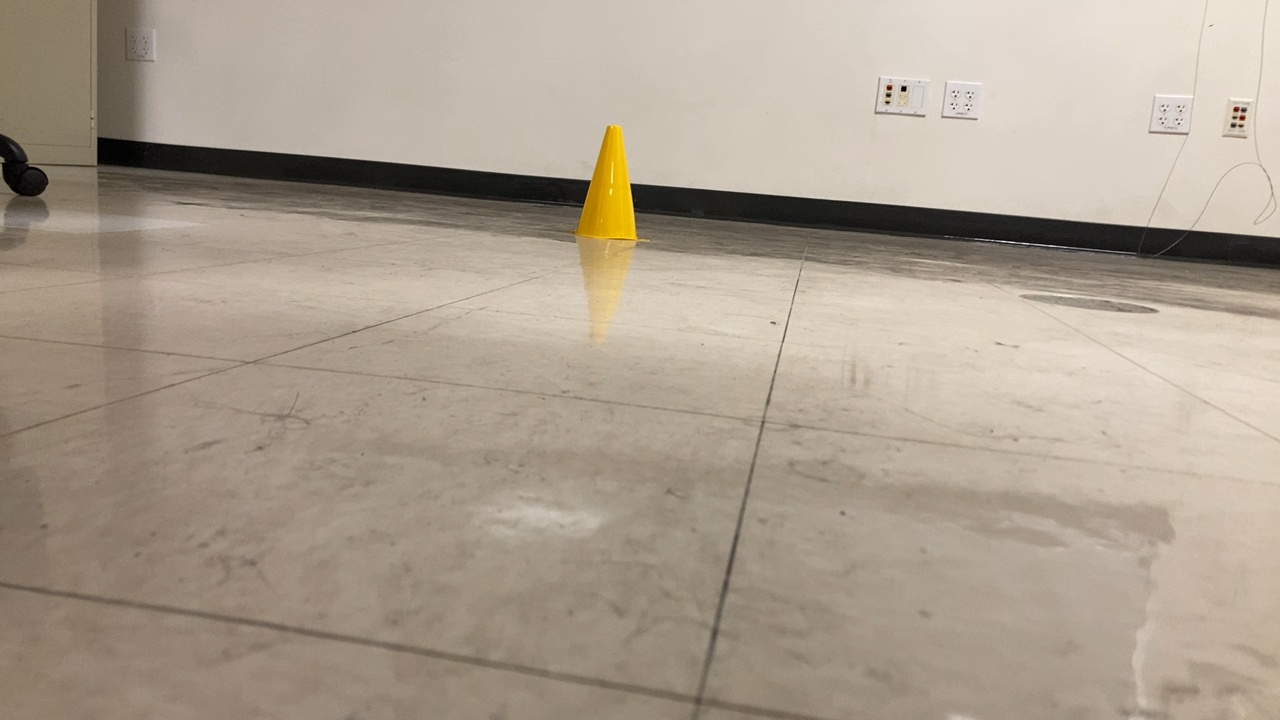yellow_cone: (562, 119, 658, 254)
